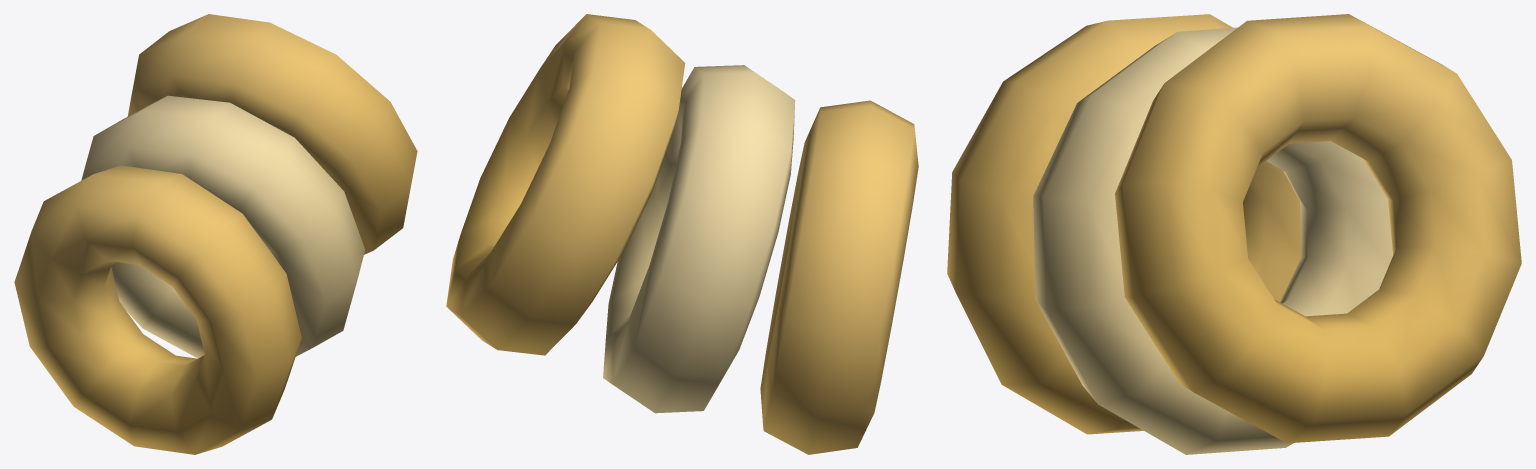
File: Earring_7.fbx
The picture shows the model from 3 angles, left to right: view 1: azimuth 30°, elevation 25°; view 2: azimuth 150°, elevation 25°; view 3: azimuth 270°, elevation 25°; orthographic projection. The views are drawn at different scales.
Visible parts, largest first — view 1: Earring_7; view 2: Earring_7; view 3: Earring_7.
Boxes of the visible parts, left/top/right/bottom form: Earring_7: left=14, top=14, right=417, bottom=454; Earring_7: left=446, top=14, right=918, bottom=454; Earring_7: left=947, top=14, right=1521, bottom=454.
Bounding box in the file's own units: 10.59 × 9.7 × 10.23.
